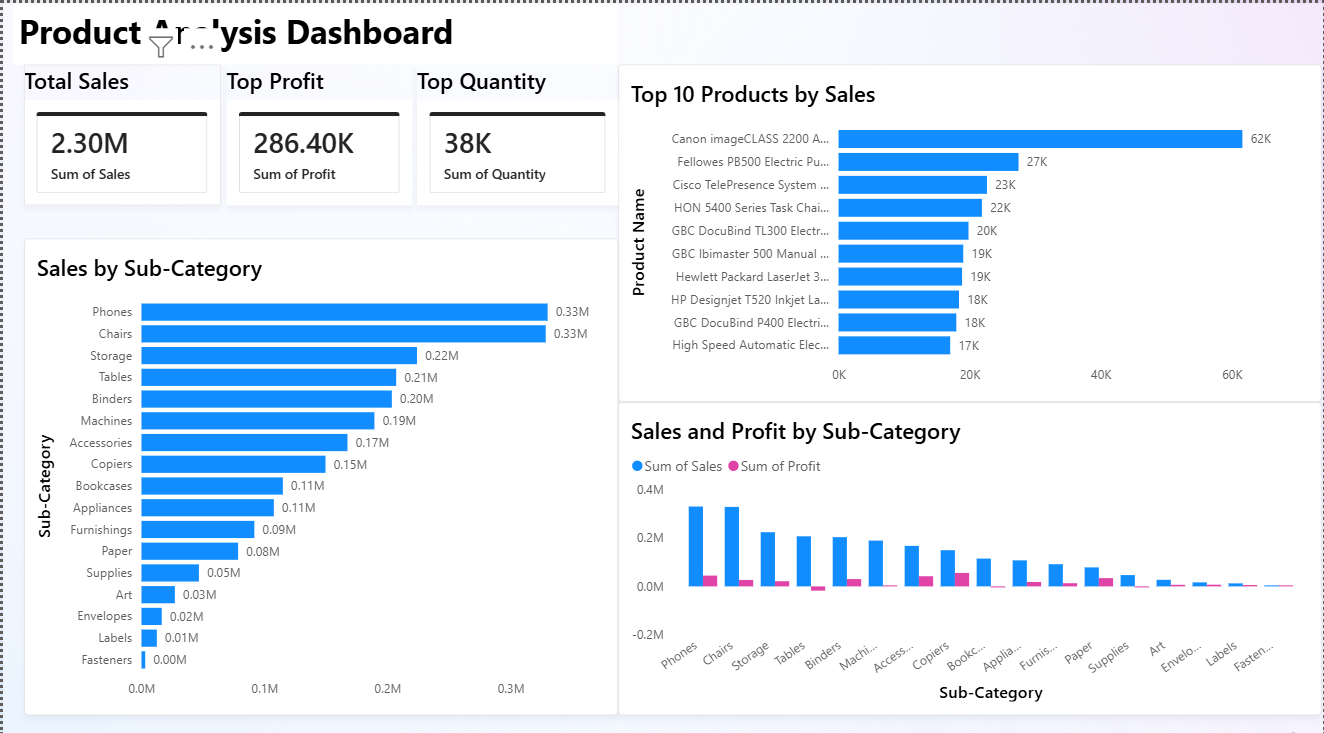

What the dashboard file says about the page in this screenshot:
{"tool":"powerbi","page":{"name":"Product Analysis","canvas":[1280,720],"ordinal":1},"visuals":[{"type":"textbox","box":[10.2,0,586.6,59.7],"z":0},{"type":"clusteredBarChart","title":"Top 10 Products by Sales","fields":{"Category":["Sample - Superstore.Product Name"],"Y":["Sum(Sample - Superstore.Sales)"]},"box":[596.8,59.7,682.7,327.5],"z":1000},{"type":"clusteredBarChart","title":"Sales by Sub-Category","fields":{"Category":["Sample - Superstore.Sub-Category"],"Y":["Sum(Sample - Superstore.Sales)"]},"box":[20.4,228.5,576.4,462.9],"z":2000},{"type":"clusteredColumnChart","title":"Sales and Profit by Sub-Category","fields":{"Category":["Sample - Superstore.Sub-Category"],"Y":["Sum(Sample - Superstore.Sales)","Sum(Sample - Superstore.Profit)"]},"box":[596.8,387.2,682.7,304.2],"z":3000},{"type":"cardVisual","title":"Total Sales","fields":{"Data":["Sum(Sample - Superstore.Sales)"]},"box":[20.4,59.7,190.7,136.8],"z":4000},{"type":"cardVisual","title":"Top Profit","fields":{"Data":["Sum(Sample - Superstore.Profit)"]},"box":[216.2,59.7,180.5,136.8],"z":5000},{"type":"cardVisual","title":"Top Quantity","fields":{"Data":["Sum(Sample - Superstore.Quantity)"]},"box":[401.7,59.7,195,136.8],"z":6000}]}

Visuals, with their boxes in screenshot pixels (x1, y1, x2, y2), scaled from the page's 1280x720 canvas onto the 1324x733 screenshot:
textbox: left=11, top=0, right=617, bottom=61
"Top 10 Products by Sales" clusteredBarChart: left=617, top=61, right=1323, bottom=394
"Sales by Sub-Category" clusteredBarChart: left=21, top=233, right=617, bottom=704
"Sales and Profit by Sub-Category" clusteredColumnChart: left=617, top=394, right=1323, bottom=704
"Total Sales" cardVisual: left=21, top=61, right=218, bottom=200
"Top Profit" cardVisual: left=224, top=61, right=410, bottom=200
"Top Quantity" cardVisual: left=416, top=61, right=617, bottom=200
